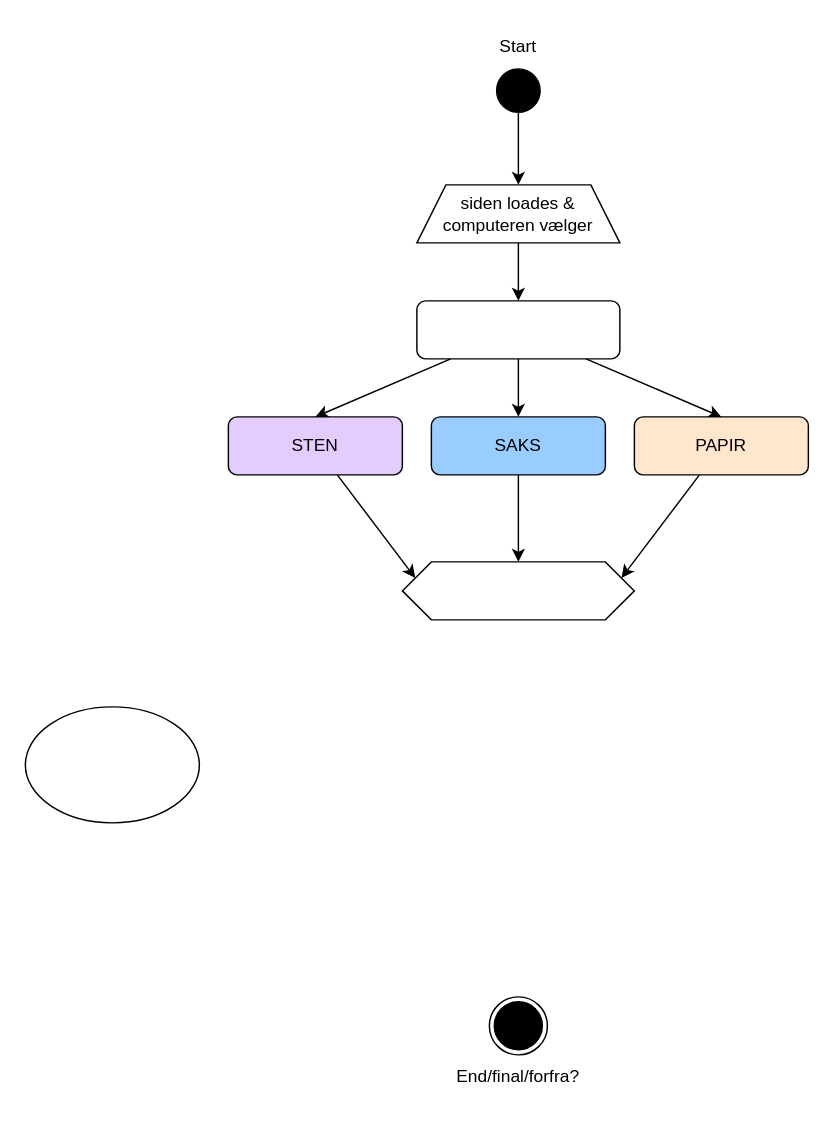
The diagram is 834 pixels wide and 1122 high, and some of its shapes have lost their labels. The centre of each missing label's shape, as x and y in pixels:
animation - hænder "ryster"/shaker: pixel 517 590
Vælg knap/tegn/hånd: pixel 517 329
